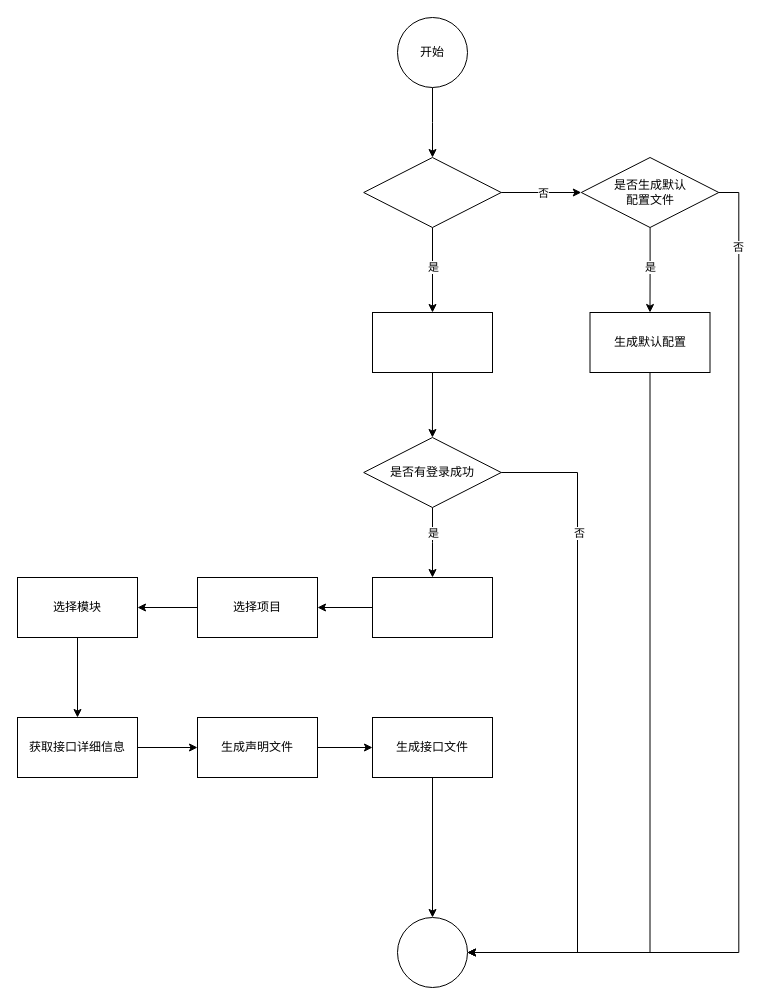
Image size: 765x1005. Some labels were removed from this diagram. Each missing label, with the box of its shape:
是否有配置文件: (363, 156, 501, 228)
登录: (372, 312, 492, 372)
结束: (396, 916, 468, 988)
选择分组: (372, 576, 492, 638)
